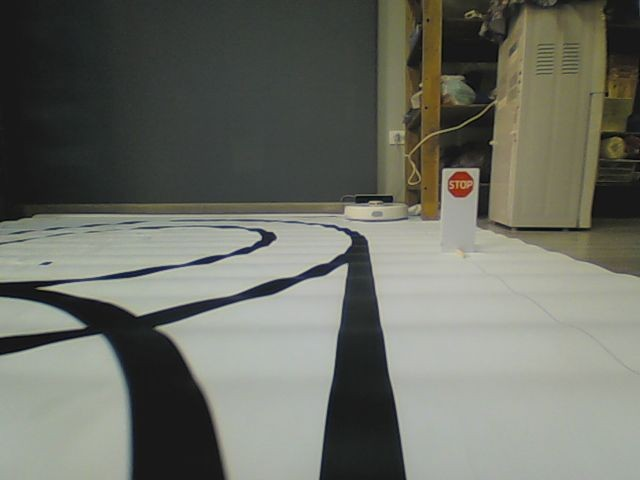Stop: (447, 169, 474, 199)
